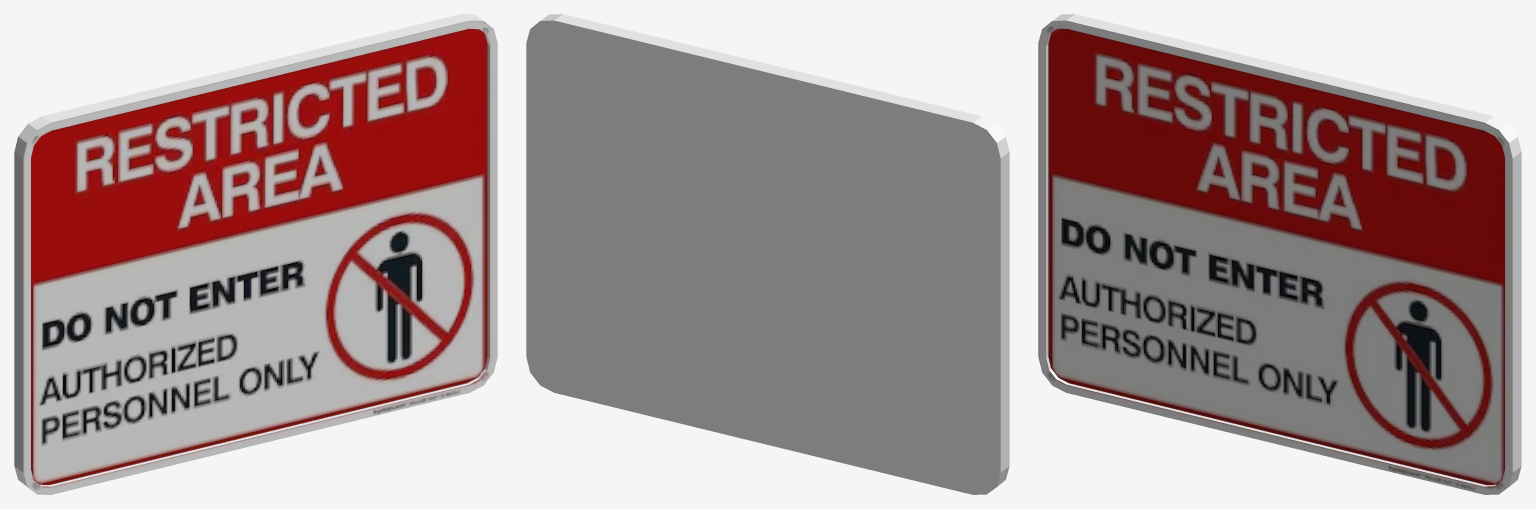
The model's file is RestrictedArea.fbx.
The picture shows the model from 3 angles, left to right: view 1: azimuth 30°, elevation 25°; view 2: azimuth 150°, elevation 25°; view 3: azimuth 330°, elevation 25°; orthographic projection.
Parts seen in each view (by area): view 1: Plane; view 2: Plane; view 3: Plane.
Part boxes in pixels (x1,y1,x2,y2): Plane: (14, 14, 497, 494); Plane: (526, 14, 1009, 494); Plane: (1038, 14, 1521, 494).
Bounding box in the file's own units: 400 × 300 × 13.
